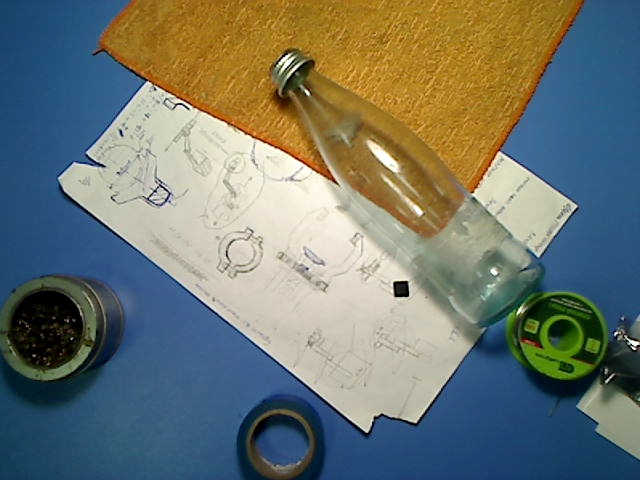bottle: (268, 46, 547, 331)
